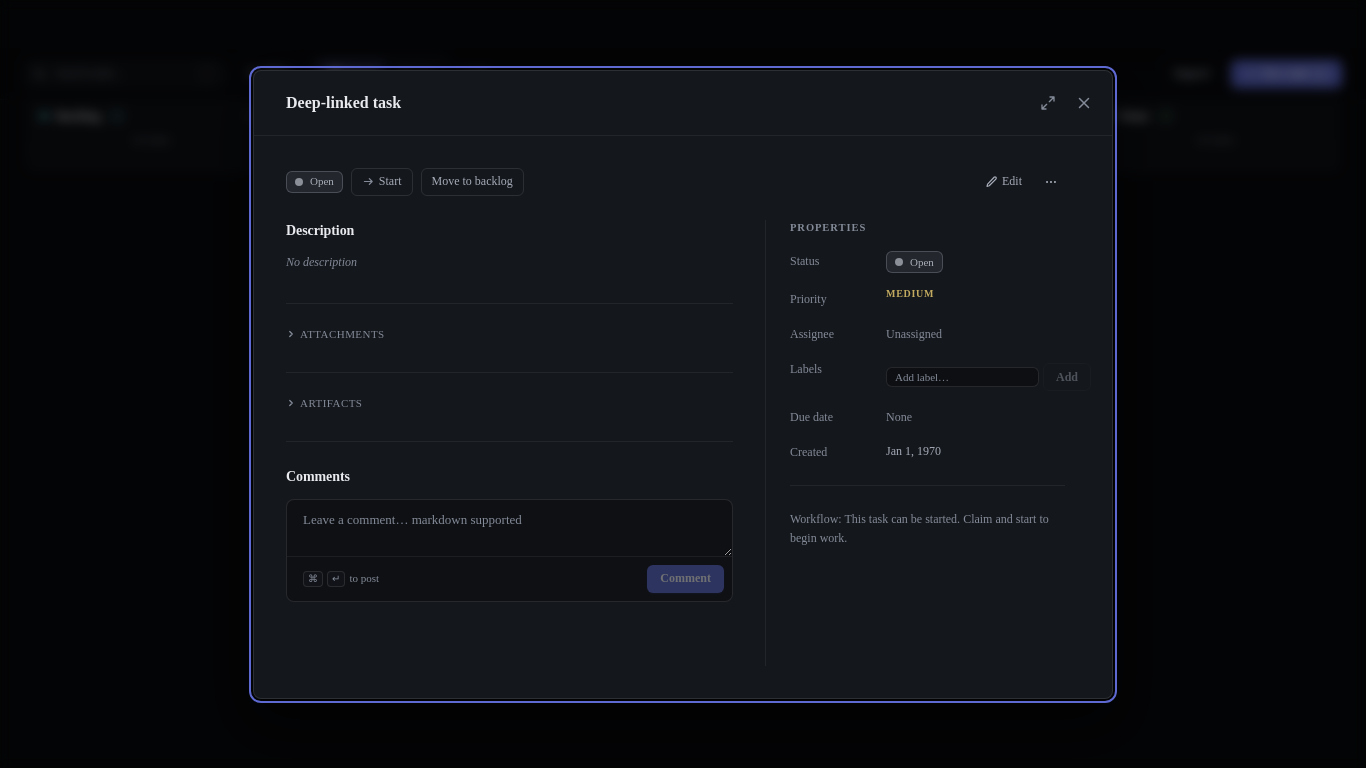
Test: board admin workflow edges › task modal admin override › offers the status-override control in the menu to a ADMIN
Expected: the dialog is shown, [253, 70, 1113, 698]
What coordinates should you click on to do the following:
click the button named "More actions"
I would click on:
 (1051, 182)
Its box is [1037, 168, 1065, 196].
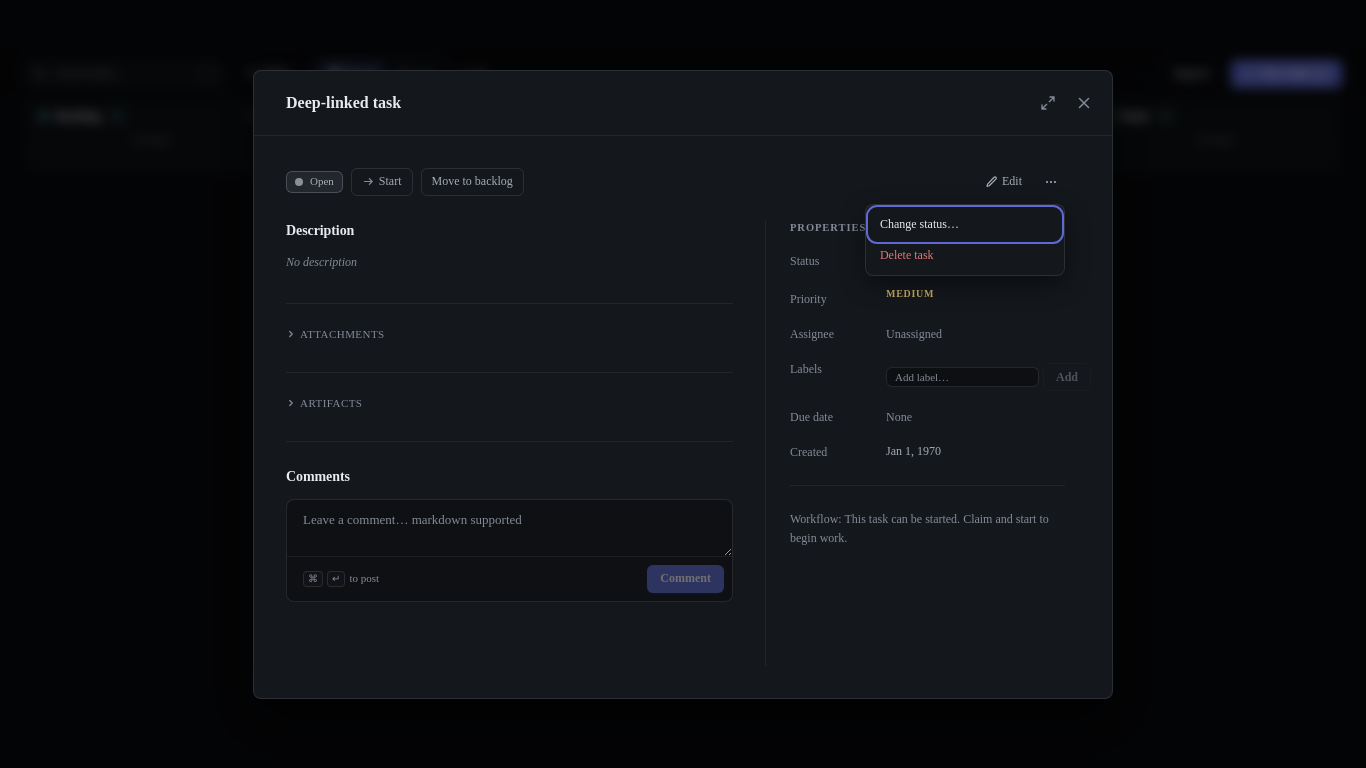
What coordinates should you click on to do the following:
click the button "Change status…"
I would click on:
 (965, 224)
Its box is [870, 208, 1060, 240].
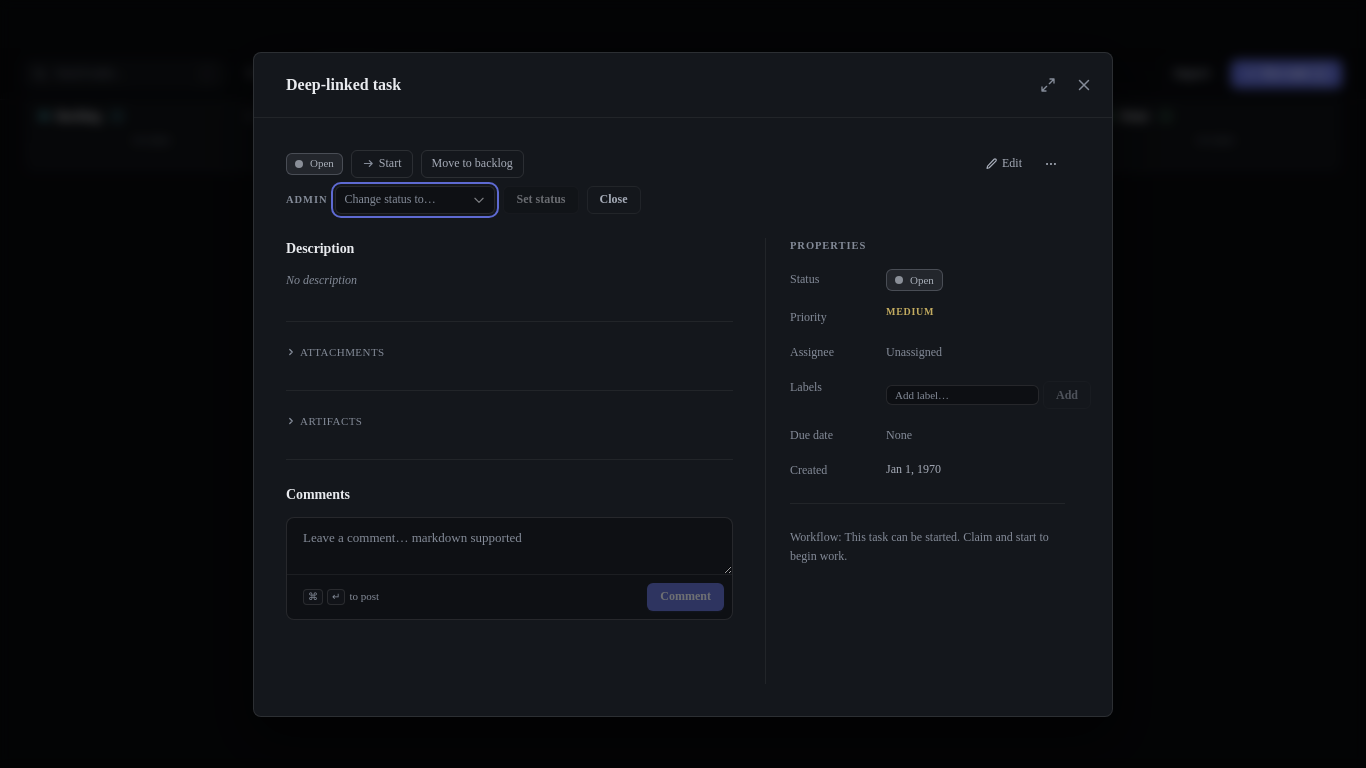
Expected: the dropdown named "Change task status (admin override)" is shown, [336, 186, 496, 214]
